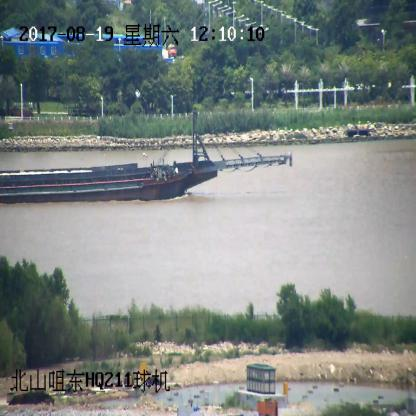Bulk Carrier: (0, 110, 290, 205)
